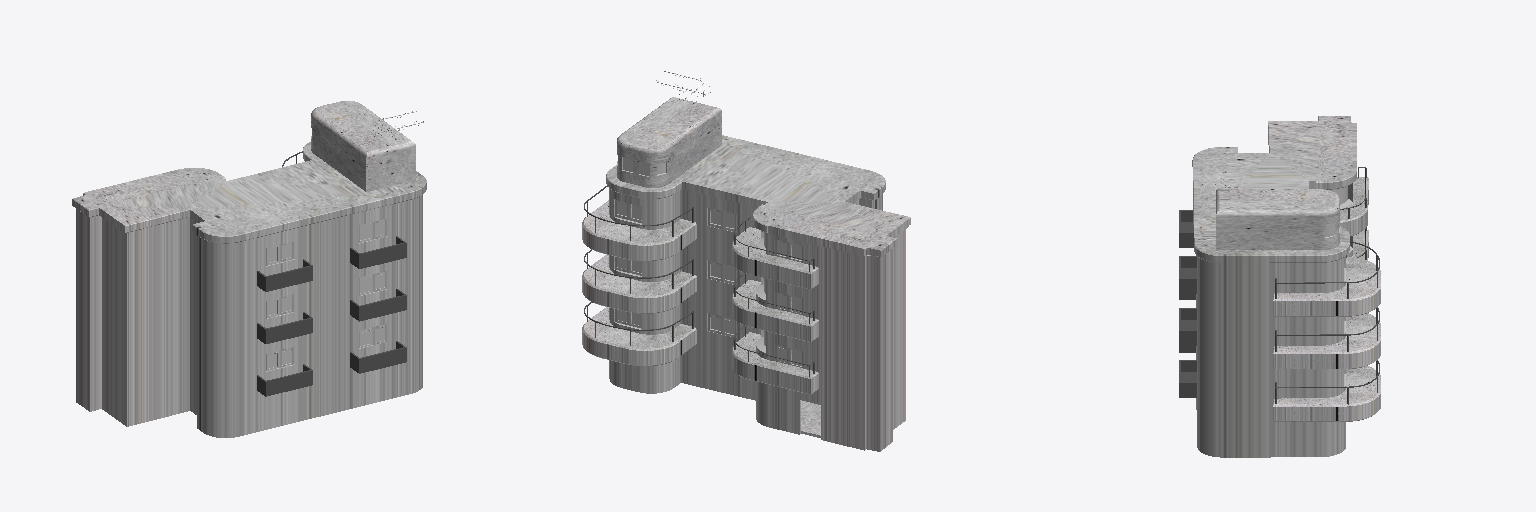
The picture shows the model from 3 angles: view 1: azimuth 30°, elevation 25°; view 2: azimuth 150°, elevation 25°; view 3: azimuth 270°, elevation 25°; orthographic projection.
Visible parts, largest first — view 1: BauhausTop, RoofCube, BalconyBoxR, BlaconyBoxLeft; view 2: BauhausTop, BalconyFat, BlaconyThinIn, RoofCube, BezierCurve; view 3: BauhausTop, BalconyFat, RoofCube, BalconyBoxR, BlaconyThinIn, BlaconyBoxLeft.
Boxes of the visible parts, box(x1,y1,x2,y2) form: BauhausTop: box(72, 142, 426, 437); RoofCube: box(311, 101, 415, 191); BalconyBoxR: box(350, 236, 406, 373); BlaconyBoxLeft: box(257, 259, 312, 396); BauhausTop: box(606, 135, 910, 451); BalconyFat: box(582, 200, 696, 365); BlaconyThinIn: box(732, 227, 818, 394); RoofCube: box(617, 97, 721, 187); BezierCurve: box(584, 186, 693, 330); BauhausTop: box(1192, 116, 1356, 457); BalconyFat: box(1273, 257, 1380, 421); RoofCube: box(1216, 189, 1339, 249); BalconyBoxR: box(1179, 256, 1196, 397); BlaconyThinIn: box(1340, 177, 1368, 259); BlaconyBoxLeft: box(1179, 210, 1195, 352).
Bounding box in the file's own units: 3.05 × 2.65 × 1.8.
Materials: 4 (1 with a texture image).